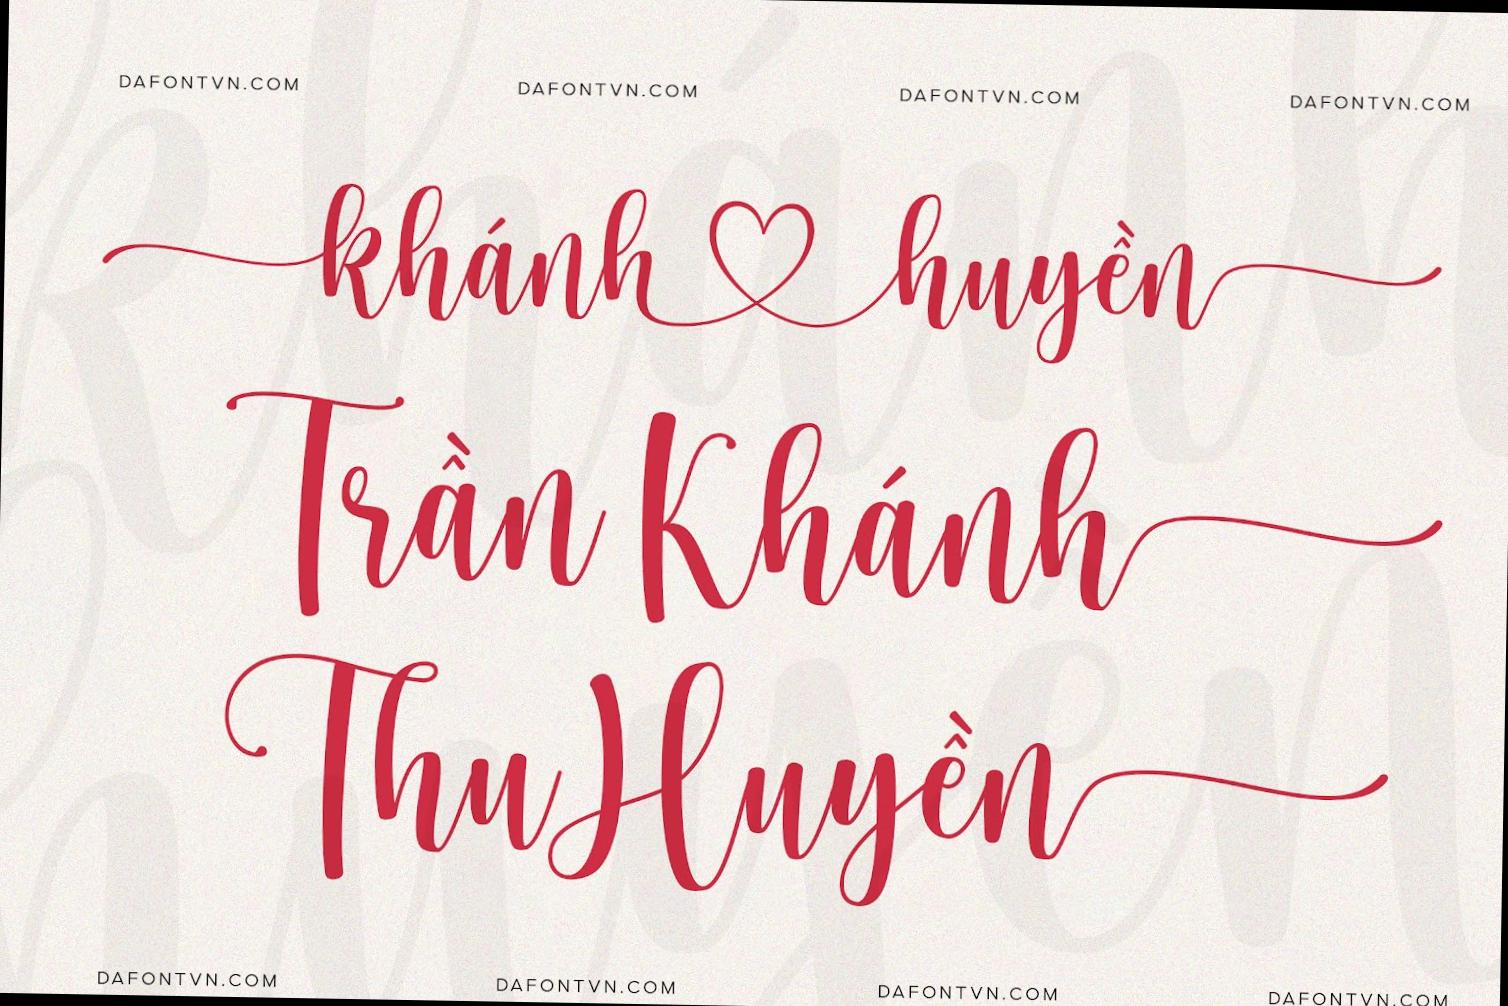text: (214, 644, 1398, 924), (210, 383, 1447, 641), (95, 173, 1450, 376), (111, 64, 302, 100), (895, 80, 1086, 112), (1283, 88, 1473, 119), (492, 969, 680, 1000), (512, 74, 698, 106), (872, 978, 1058, 1006), (91, 968, 283, 995), (1261, 985, 1452, 1006)
